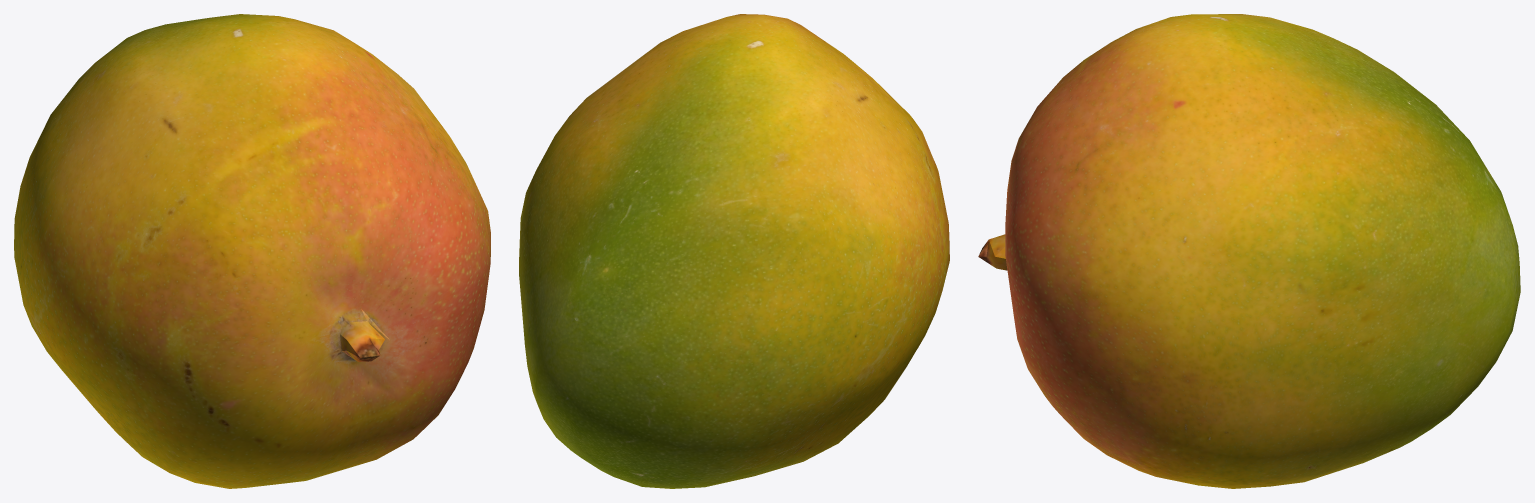
Rendered from 3DMango001_LQ-2K-JPG.obj.
3 views of the same model, side by side, from view 1: azimuth 30°, elevation 25°; view 2: azimuth 150°, elevation 25°; view 3: azimuth 270°, elevation 25° (orthographic). The views are drawn at different scales.
Parts seen in each view (by area): view 1: 3DMango001_LQ-2K-JPG; view 2: 3DMango001_LQ-2K-JPG; view 3: 3DMango001_LQ-2K-JPG.
Part boxes in pixels (<box>): 3DMango001_LQ-2K-JPG: <box>14,14,490,488</box>; 3DMango001_LQ-2K-JPG: <box>519,14,949,488</box>; 3DMango001_LQ-2K-JPG: <box>978,14,1520,488</box>.
Bounding box in the file's own units: 0.1329 × 0.1471 × 0.1661.
Materials: 1 (1 with a texture image).
